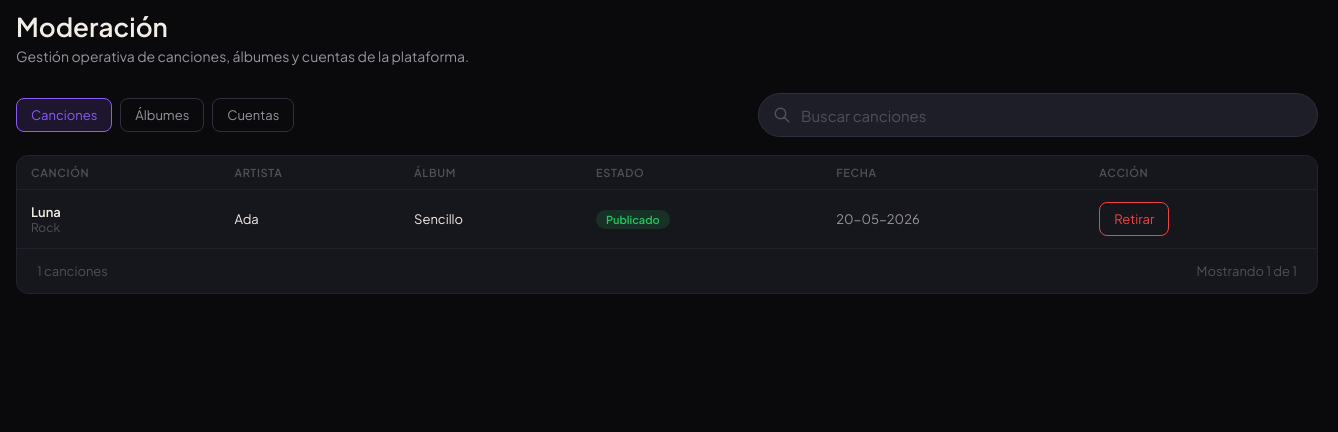
Test case: AdminPages › routes account searches to the account moderation endpoint
The width and height of the screenshot is (1338, 432).
Click the button "Cuentas": (253, 115) [212,98,294,132]
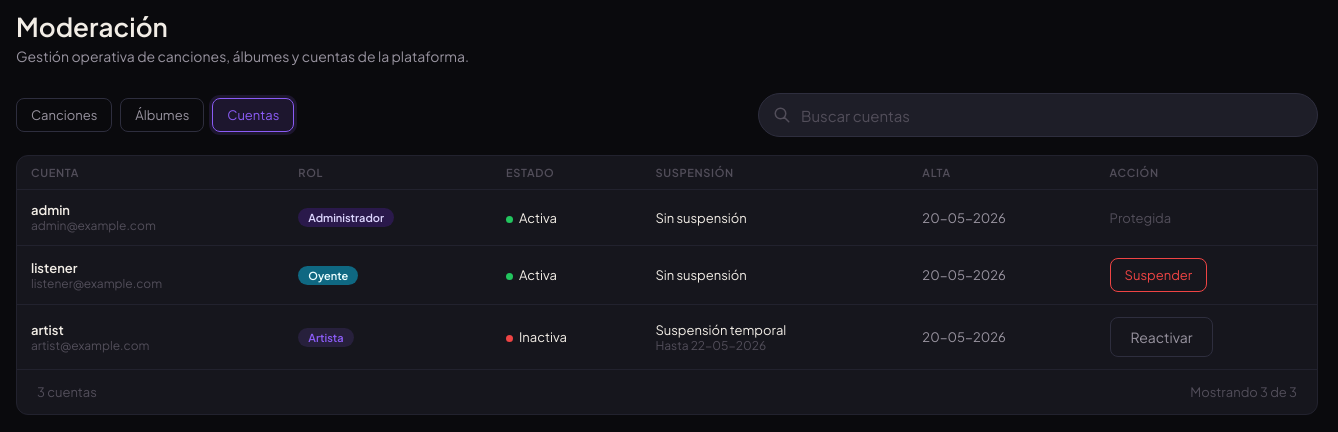
Check: the text "listener@example.com" is shown, box [31,276,162,290]
In the field with placeholder "Buscar cuentas": (1038, 115) [758,93,1318,137], type "dia"
Then press Enter
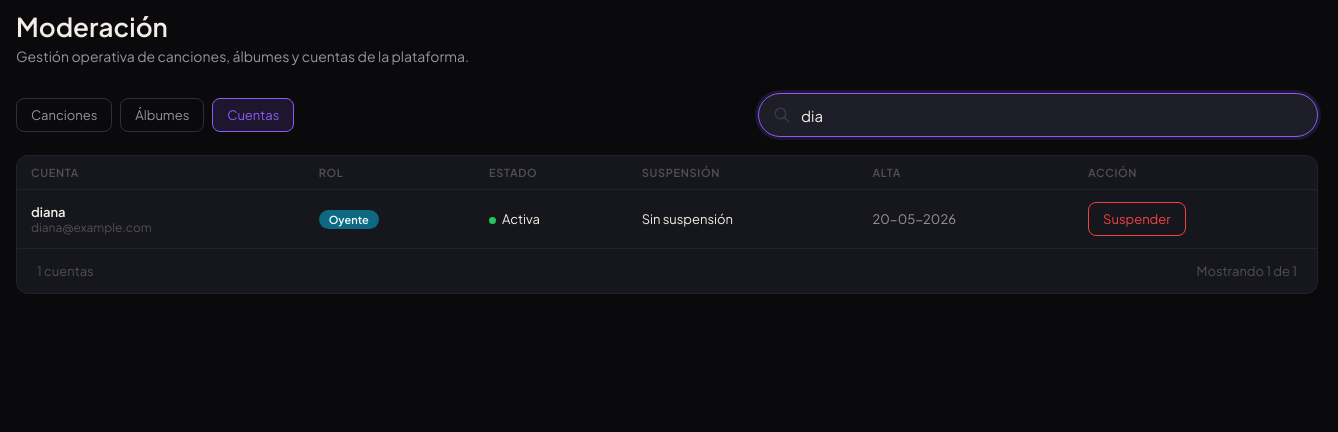
Check: the text "diana@example.com" is shown, box [31,220,152,234]
